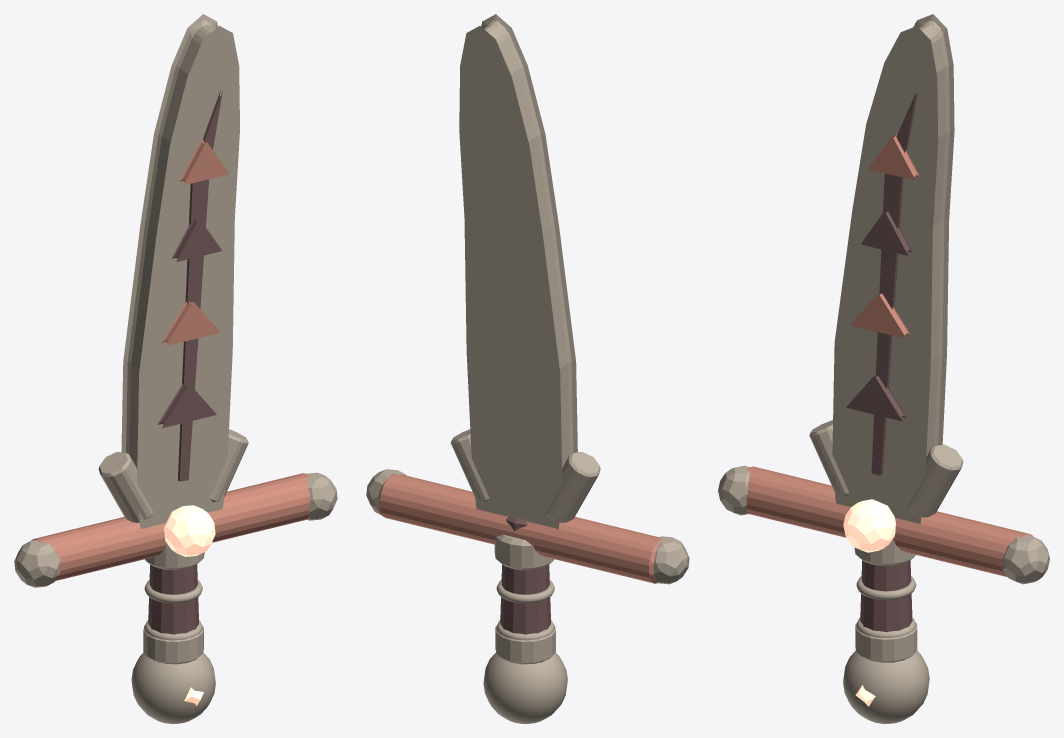
File: dual-pair-08-dragonfang-reaver.glb
3 views of the same model, side by side, from view 1: azimuth 30°, elevation 25°; view 2: azimuth 150°, elevation 25°; view 3: azimuth 330°, elevation 25° (orthographic). The views are drawn at different scales.
Parts seen in each view (by area): view 1: dual-pair-08-dragonfang-reaver_ForgedBlade.001, dual-pair-08-dragonfang-reaver_Crossguard.001, dual-pair-08-dragonfang-reaver_Pommel.001, dual-pair-08-dragonfang-reaver_ColoredFuller.001, dual-pair-08-dragonfang-reaver_LeatherGrip.001, dual-pair-08-dragonfang-reaver_FangGuard_-1.001, dual-pair-08-dragonfang-reaver_GuardGem.001, dual-pair-08-dragonfang-reaver_GuardEnd_-1.001, dual-pair-08-dragonfang-reaver_LowerFerrule.001, dual-pair-08-dragonfang-reaver_DragonScale_1.001, dual-pair-08-dragonfang-reaver_DragonScale_2.001, dual-pair-08-dragonfang-reaver_DragonScale_4.001 (+5 smaller); view 2: dual-pair-08-dragonfang-reaver_ForgedBlade.001, dual-pair-08-dragonfang-reaver_Crossguard.001, dual-pair-08-dragonfang-reaver_Pommel.001, dual-pair-08-dragonfang-reaver_LeatherGrip.001, dual-pair-08-dragonfang-reaver_FangGuard_-1.001, dual-pair-08-dragonfang-reaver_LowerFerrule.001, dual-pair-08-dragonfang-reaver_UpperFerrule.001, dual-pair-08-dragonfang-reaver_GuardEnd_-1.001, dual-pair-08-dragonfang-reaver_FangGuard_1.001, dual-pair-08-dragonfang-reaver_GripBinding_2.001, dual-pair-08-dragonfang-reaver_GuardEnd_1.001; view 3: dual-pair-08-dragonfang-reaver_ForgedBlade.001, dual-pair-08-dragonfang-reaver_Crossguard.001, dual-pair-08-dragonfang-reaver_Pommel.001, dual-pair-08-dragonfang-reaver_ColoredFuller.001, dual-pair-08-dragonfang-reaver_LeatherGrip.001, dual-pair-08-dragonfang-reaver_FangGuard_1.001, dual-pair-08-dragonfang-reaver_GuardGem.001, dual-pair-08-dragonfang-reaver_GuardEnd_1.001, dual-pair-08-dragonfang-reaver_LowerFerrule.001, dual-pair-08-dragonfang-reaver_DragonScale_1.001, dual-pair-08-dragonfang-reaver_DragonScale_2.001, dual-pair-08-dragonfang-reaver_FangGuard_-1.001 (+5 smaller).
Part boxes in pixels (x1,y1,x2,y2): dual-pair-08-dragonfang-reaver_ForgedBlade.001: (121,14,239,528); dual-pair-08-dragonfang-reaver_Crossguard.001: (31,473,310,580); dual-pair-08-dragonfang-reaver_Pommel.001: (131,652,215,723); dual-pair-08-dragonfang-reaver_ColoredFuller.001: (178,89,222,481); dual-pair-08-dragonfang-reaver_LeatherGrip.001: (148,564,198,634); dual-pair-08-dragonfang-reaver_FangGuard_-1.001: (98,452,153,522); dual-pair-08-dragonfang-reaver_GuardGem.001: (164,505,215,556); dual-pair-08-dragonfang-reaver_GuardEnd_-1.001: (14,540,60,587); dual-pair-08-dragonfang-reaver_LowerFerrule.001: (143,625,203,664); dual-pair-08-dragonfang-reaver_DragonScale_1.001: (157,383,216,428); dual-pair-08-dragonfang-reaver_DragonScale_2.001: (161,301,220,345); dual-pair-08-dragonfang-reaver_DragonScale_4.001: (179,138,229,185); dual-pair-08-dragonfang-reaver_ForgedBlade.001: (459,14,577,528); dual-pair-08-dragonfang-reaver_Crossguard.001: (378,473,662,583); dual-pair-08-dragonfang-reaver_Pommel.001: (483,652,567,723); dual-pair-08-dragonfang-reaver_LeatherGrip.001: (500,516,550,634); dual-pair-08-dragonfang-reaver_FangGuard_-1.001: (545,452,600,522); dual-pair-08-dragonfang-reaver_LowerFerrule.001: (495,625,555,664); dual-pair-08-dragonfang-reaver_UpperFerrule.001: (494,534,554,570); dual-pair-08-dragonfang-reaver_GuardEnd_-1.001: (654,536,689,584); dual-pair-08-dragonfang-reaver_FangGuard_1.001: (450,429,489,502); dual-pair-08-dragonfang-reaver_GripBinding_2.001: (496,580,554,603); dual-pair-08-dragonfang-reaver_GuardEnd_1.001: (366,469,406,515); dual-pair-08-dragonfang-reaver_ForgedBlade.001: (832,14,954,523); dual-pair-08-dragonfang-reaver_Crossguard.001: (746,466,1032,576); dual-pair-08-dragonfang-reaver_Pommel.001: (843,650,929,723); dual-pair-08-dragonfang-reaver_ColoredFuller.001: (871,91,917,475); dual-pair-08-dragonfang-reaver_LeatherGrip.001: (860,560,912,632); dual-pair-08-dragonfang-reaver_FangGuard_1.001: (907,444,963,517); dual-pair-08-dragonfang-reaver_GuardGem.001: (843,499,895,552); dual-pair-08-dragonfang-reaver_GuardEnd_1.001: (1002,534,1049,584); dual-pair-08-dragonfang-reaver_LowerFerrule.001: (855,622,917,662); dual-pair-08-dragonfang-reaver_DragonScale_1.001: (846,376,906,421); dual-pair-08-dragonfang-reaver_DragonScale_2.001: (850,293,911,338); dual-pair-08-dragonfang-reaver_FangGuard_-1.001: (809,420,849,496).
Size of the model in its own units: 0.4747 by 0.9889 by 0.1286.
